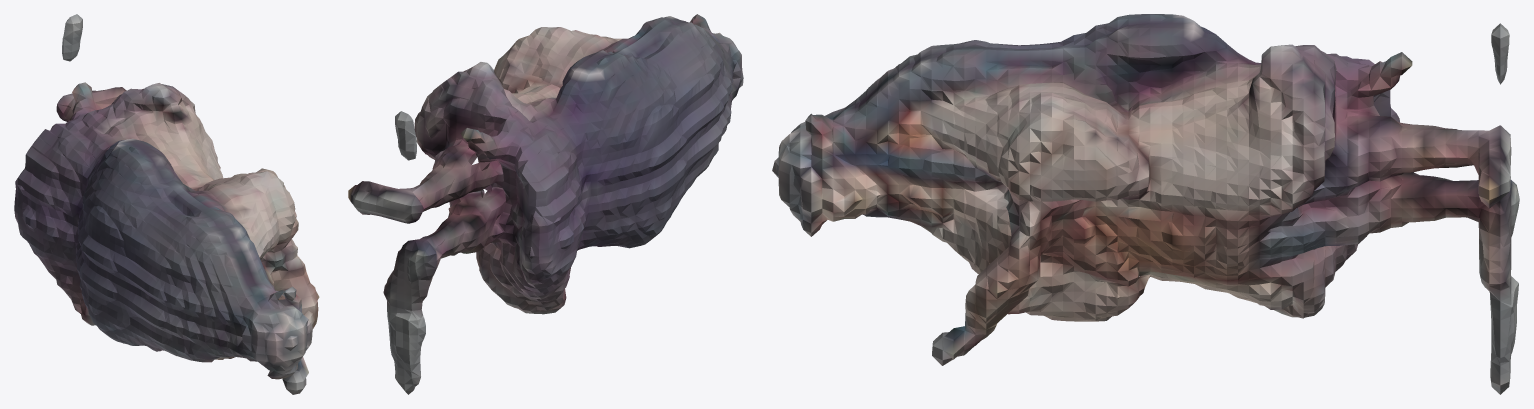
File: prehist_scholar_f_0.glb
3 renders of one model, left to right at view 1: azimuth 30°, elevation 25°; view 2: azimuth 150°, elevation 25°; view 3: azimuth 270°, elevation 25°, orthographic. The views are drawn at different scales.
Visible parts, largest first — view 1: world; view 2: world; view 3: world.
Part boxes in pixels (x1,y1,x2,y2): world: (14,14,319,394); world: (348,14,743,394); world: (772,14,1519,394).
Size of the model in its own units: 0.3651 by 0.5164 by 0.9367.
